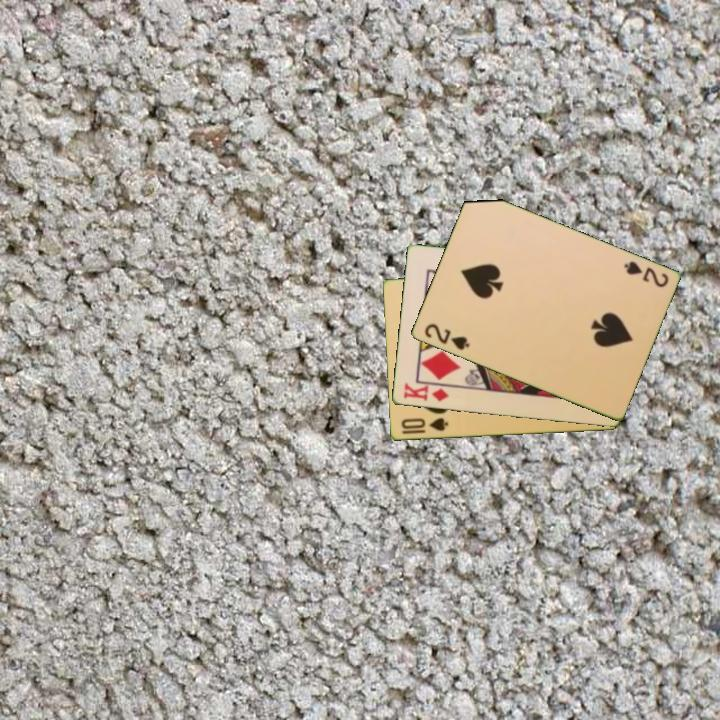10s: (398, 415, 451, 434)
2s: (620, 257, 671, 291), (420, 320, 472, 353)
Kd: (400, 379, 451, 405)
